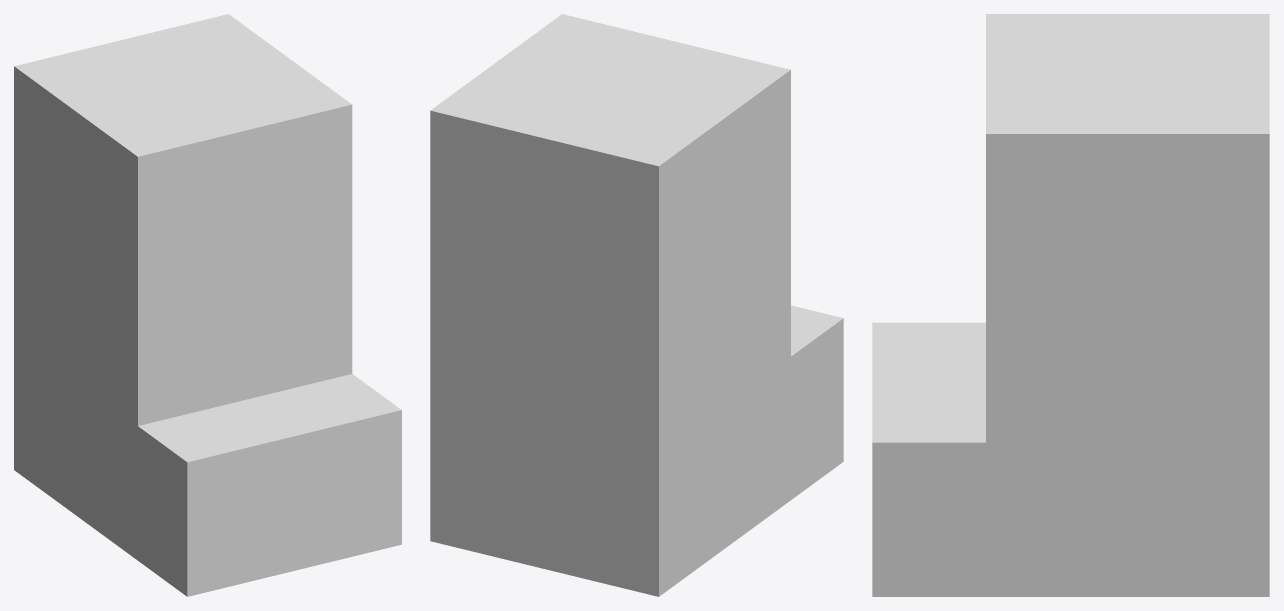
Rendered from Osiris-1.obj.
3 renders of one model, left to right at view 1: azimuth 30°, elevation 25°; view 2: azimuth 150°, elevation 25°; view 3: azimuth 270°, elevation 25°, orthographic. The views are drawn at different scales.
Bounding box in the file's own units: 0.5 × 0.9 × 0.7.
Materials: 1 (1 with a texture image).
